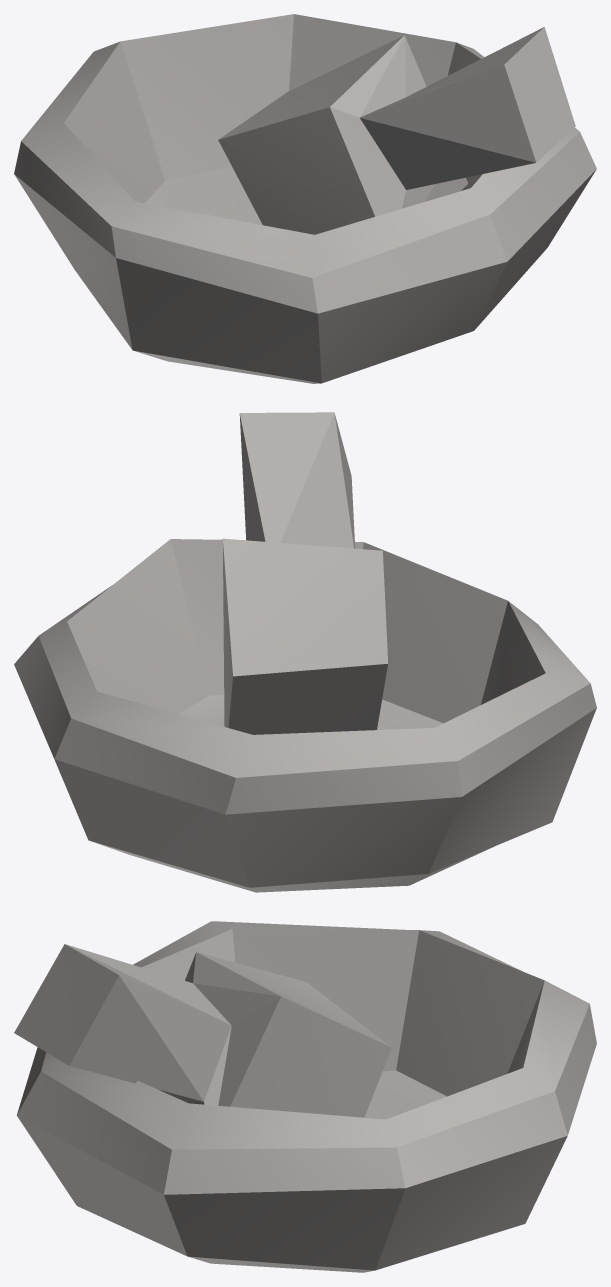
The model's file is RG-Dungeon_Mortar.fbx.
3 renders of one model, top to bottom at view 1: azimuth 30°, elevation 25°; view 2: azimuth 150°, elevation 25°; view 3: azimuth 270°, elevation 25°, orthographic. The views are drawn at different scales.
Parts seen in each view (by area): view 1: RG-Dungeon_Mortar; view 2: RG-Dungeon_Mortar; view 3: RG-Dungeon_Mortar.
Part boxes in pixels (left/top/right/bottom): RG-Dungeon_Mortar: left=14, top=14, right=596, bottom=383; RG-Dungeon_Mortar: left=14, top=412, right=596, bottom=892; RG-Dungeon_Mortar: left=14, top=921, right=596, bottom=1272.
Bounding box in the file's own units: 1.03 × 0.6295 × 1.07.
